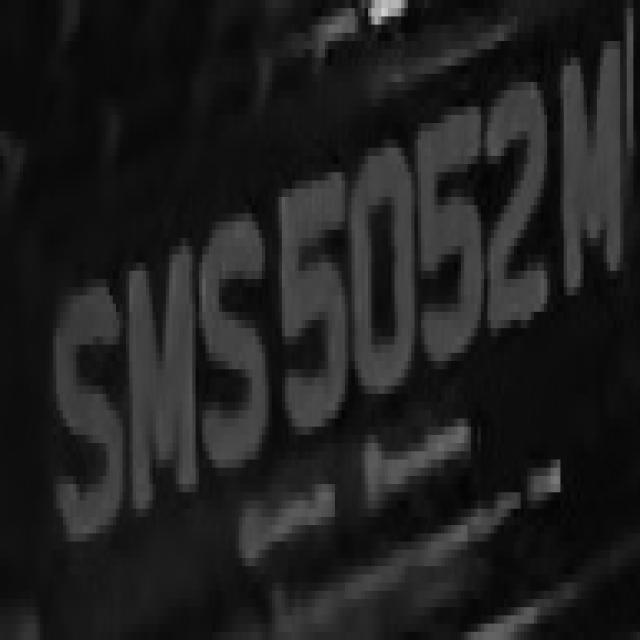0: (342, 123, 421, 435)
2: (474, 90, 551, 361)
5: (272, 139, 351, 435), (414, 90, 478, 394)
M: (123, 213, 212, 550), (544, 58, 637, 304)
S: (46, 238, 126, 574), (202, 188, 276, 501)
